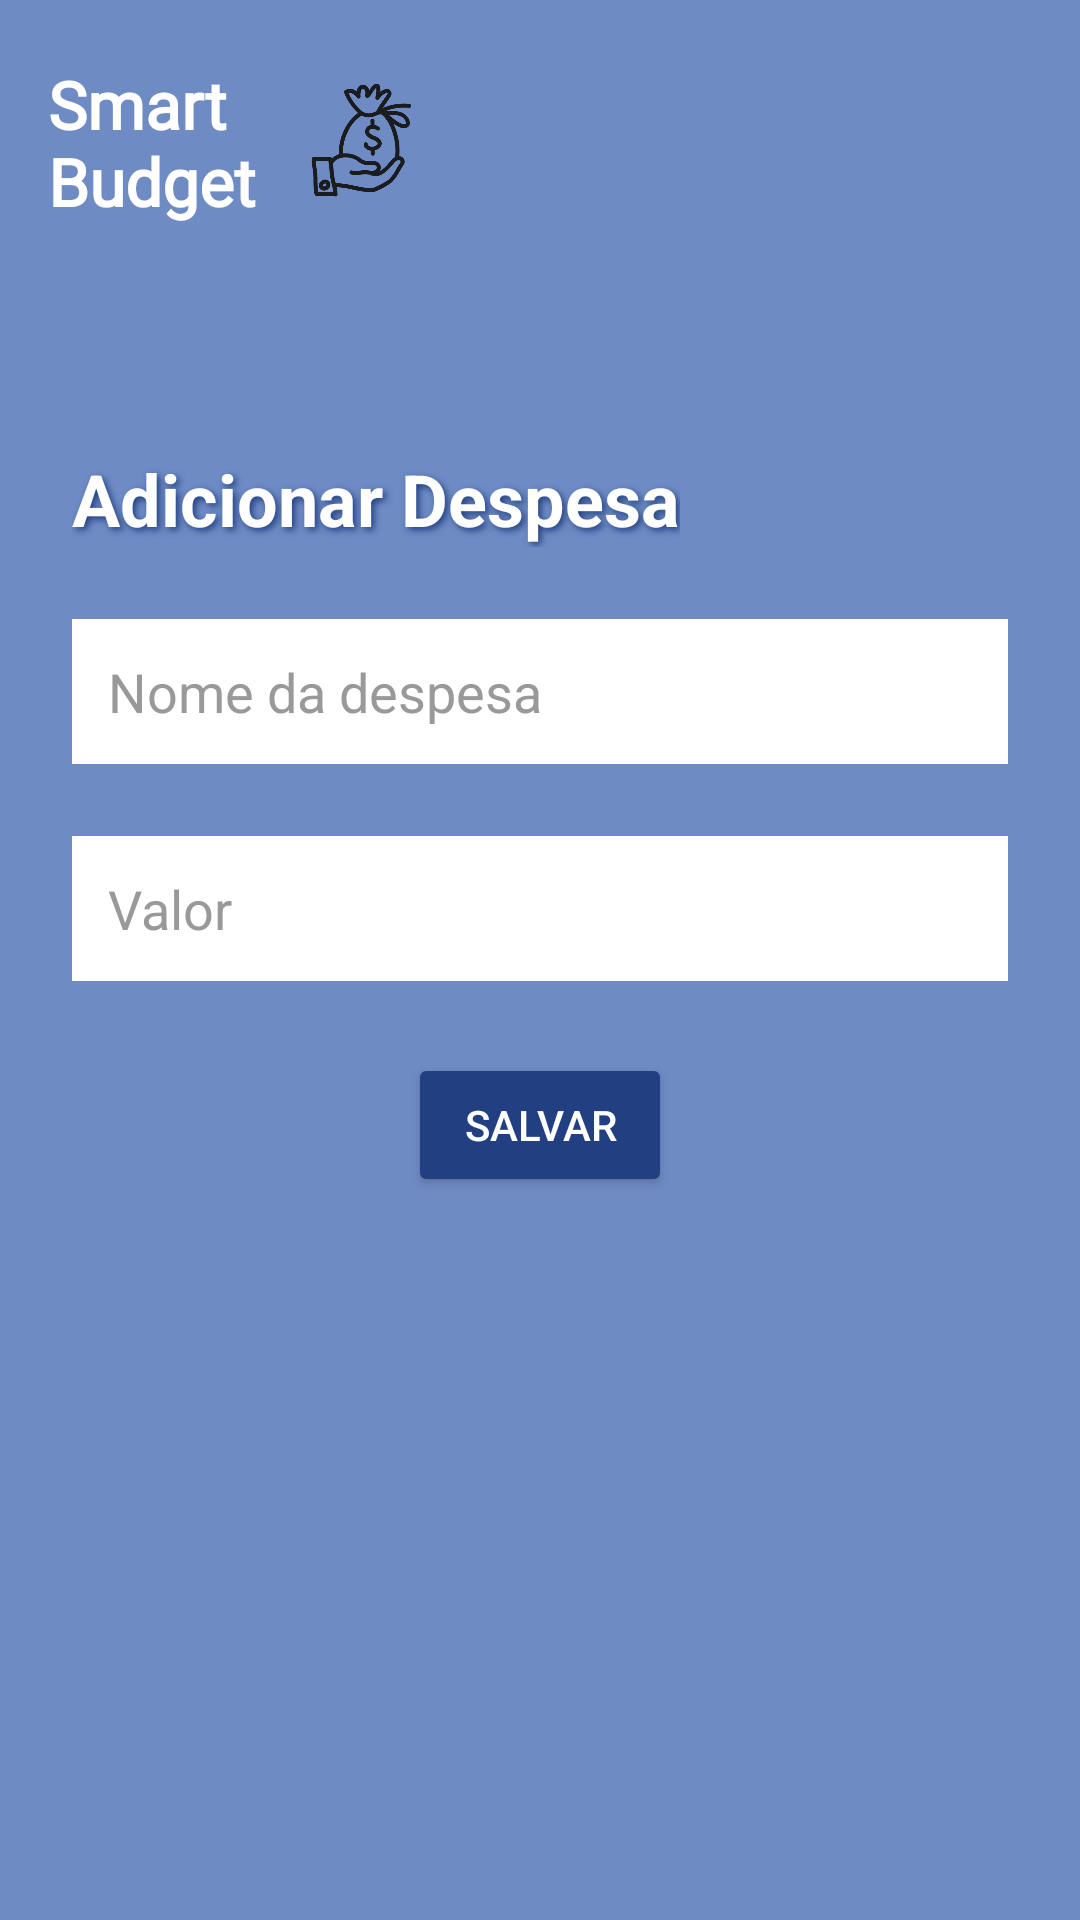

Where to tap for icons on this 1080×1920 app screen, as [x,y]:
money savings save: [361,140]
